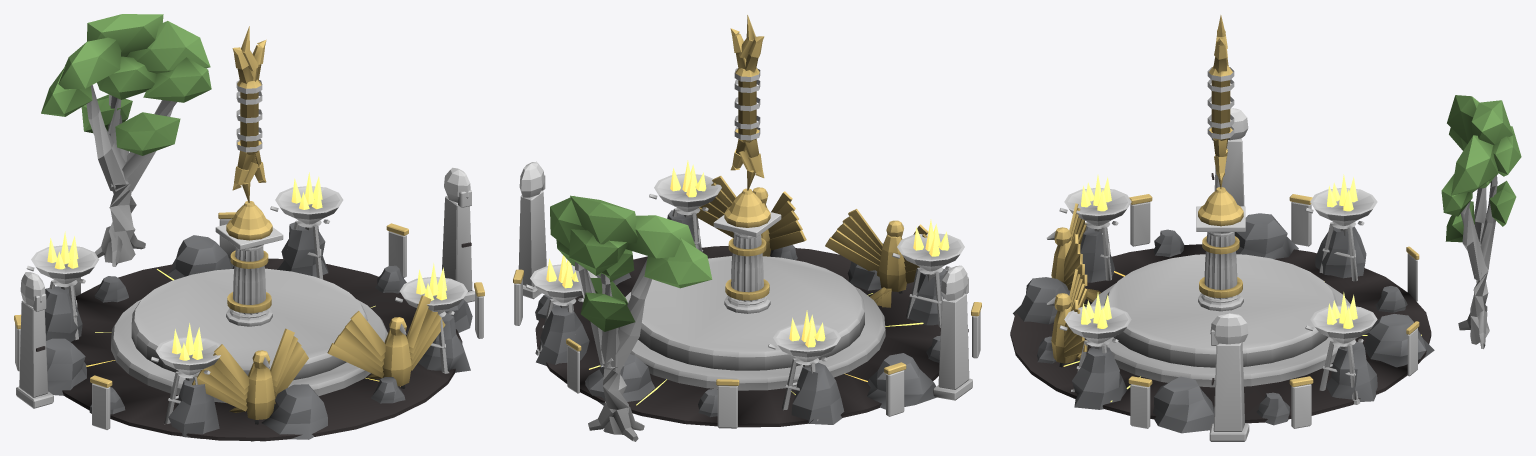
File: thunderbolt-of-zeus-l1.glb
3 views of the same model, side by side, from view 1: azimuth 30°, elevation 25°; view 2: azimuth 150°, elevation 25°; view 3: azimuth 270°, elevation 25° (orthographic).
Visible parts, largest first — view 1: thunderbolt-of-zeus-l1; view 2: thunderbolt-of-zeus-l1; view 3: thunderbolt-of-zeus-l1.
Part boxes in pixels (x1=…): thunderbolt-of-zeus-l1: x1=14, y1=14, x2=484, y2=441; thunderbolt-of-zeus-l1: x1=513, y1=15, x2=981, y2=441; thunderbolt-of-zeus-l1: x1=1010, y1=15, x2=1521, y2=441.
Bounding box in the file's own units: 1.45 × 1.05 × 1.47.
